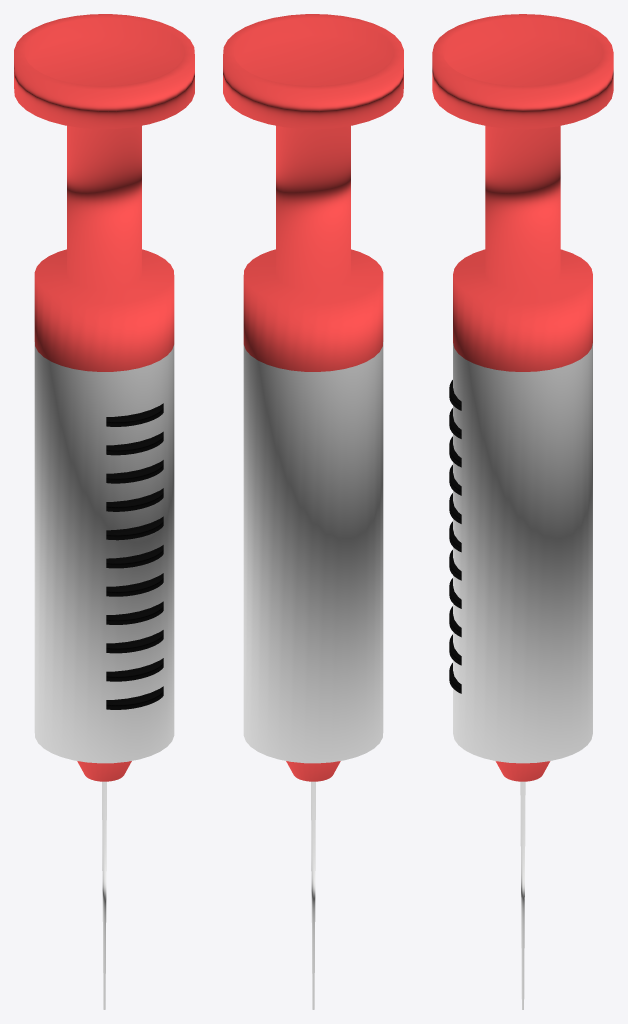
File: suntikan1.glb
The picture shows the model from 3 angles, left to right: view 1: azimuth 30°, elevation 25°; view 2: azimuth 150°, elevation 25°; view 3: azimuth 270°, elevation 25°; orthographic projection.
Visible parts, largest first — view 1: Cylinder.001; view 2: Cylinder.001; view 3: Cylinder.001.
Part boxes in pixels (box(x1,y1,x2,y2)): Cylinder.001: box(14, 14, 194, 1009); Cylinder.001: box(223, 14, 403, 1009); Cylinder.001: box(432, 14, 613, 1009).
Bounding box in the file's own units: 2 × 11.66 × 2.
